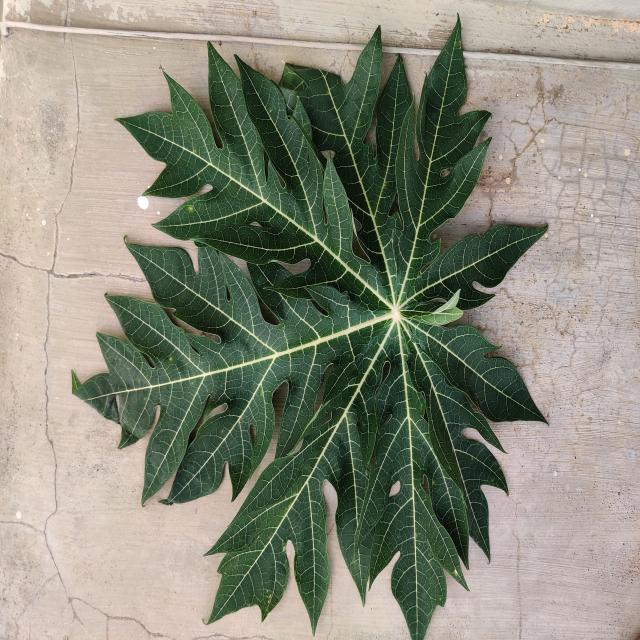papaya: (74, 20, 546, 638)
